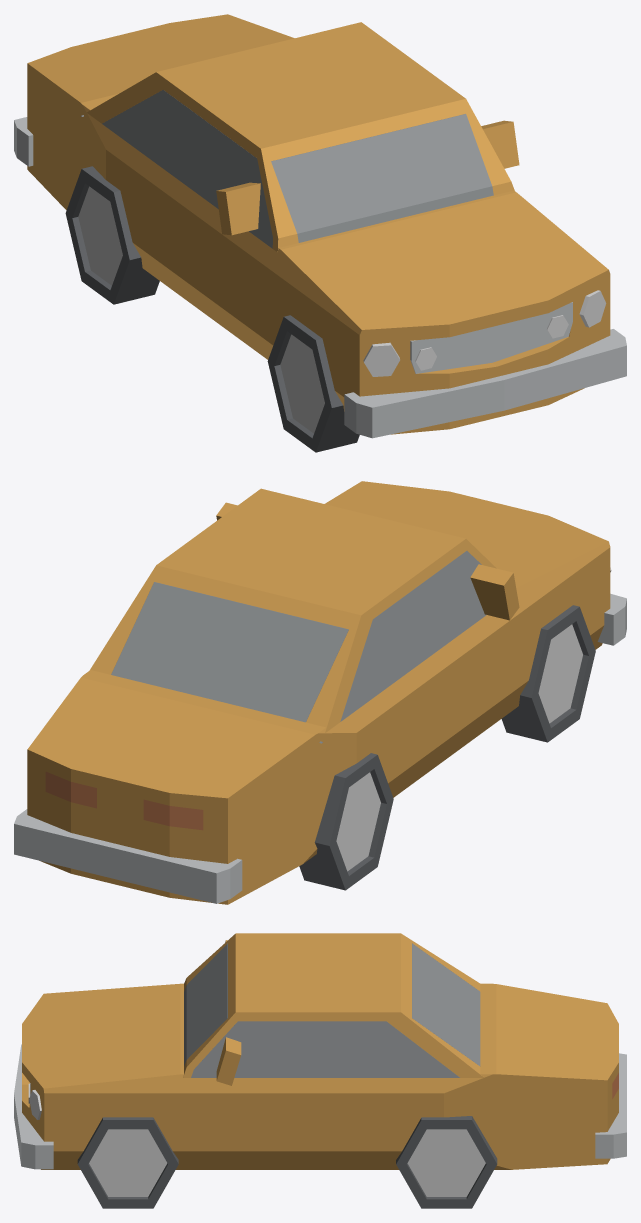
File: car.glb
3 views of the same model, one above another, from view 1: azimuth 30°, elevation 25°; view 2: azimuth 150°, elevation 25°; view 3: azimuth 270°, elevation 25° (orthographic). The views are drawn at different scales.
Parts seen in each view (by area): view 1: Mesh_Mesh_head_geo.001_lambert2SG.001; view 2: Mesh_Mesh_head_geo.001_lambert2SG.001; view 3: Mesh_Mesh_head_geo.001_lambert2SG.001.
Boxes of the visible parts, x1,y1,x2,y2 form: Mesh_Mesh_head_geo.001_lambert2SG.001: (14, 14, 626, 452); Mesh_Mesh_head_geo.001_lambert2SG.001: (14, 481, 626, 904); Mesh_Mesh_head_geo.001_lambert2SG.001: (14, 933, 626, 1208).
Bounding box in the file's own units: 10.25 × 8 × 24.
